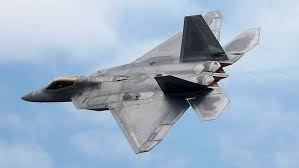fighter: (14, 6, 263, 158)
